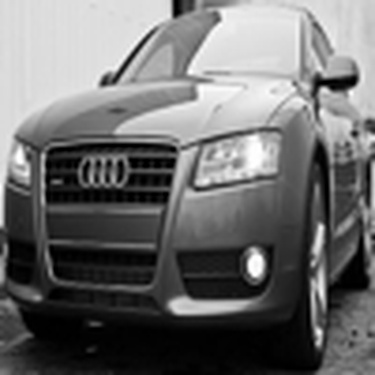car: (4, 2, 372, 373), (358, 109, 373, 168)
